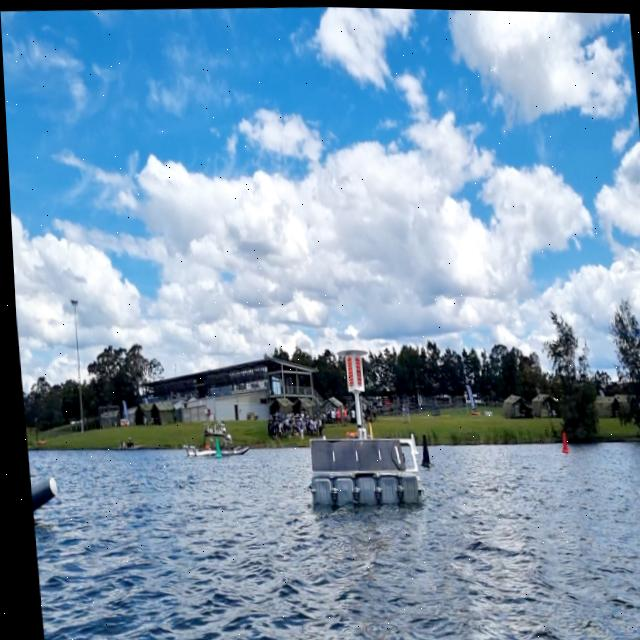led: (350, 352, 359, 387), (341, 354, 350, 386)
